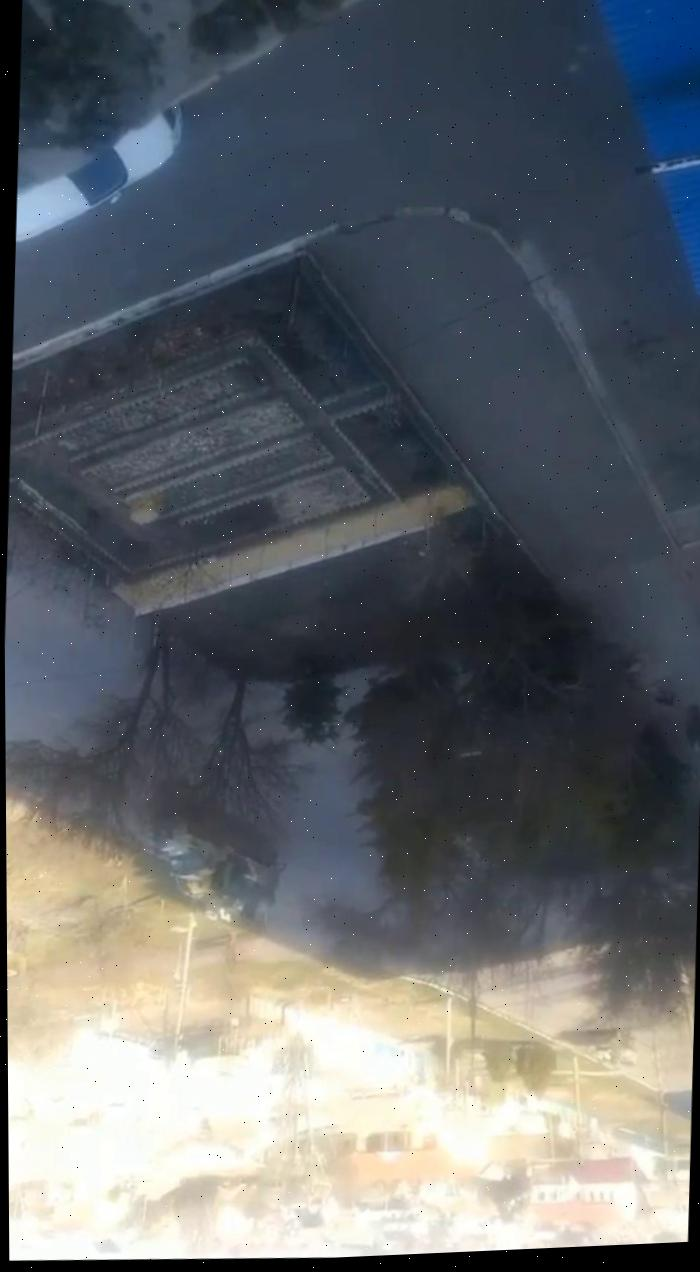person: (683, 697, 700, 756)
tank: (577, 1019, 641, 1068)
truck: (146, 805, 285, 925)
